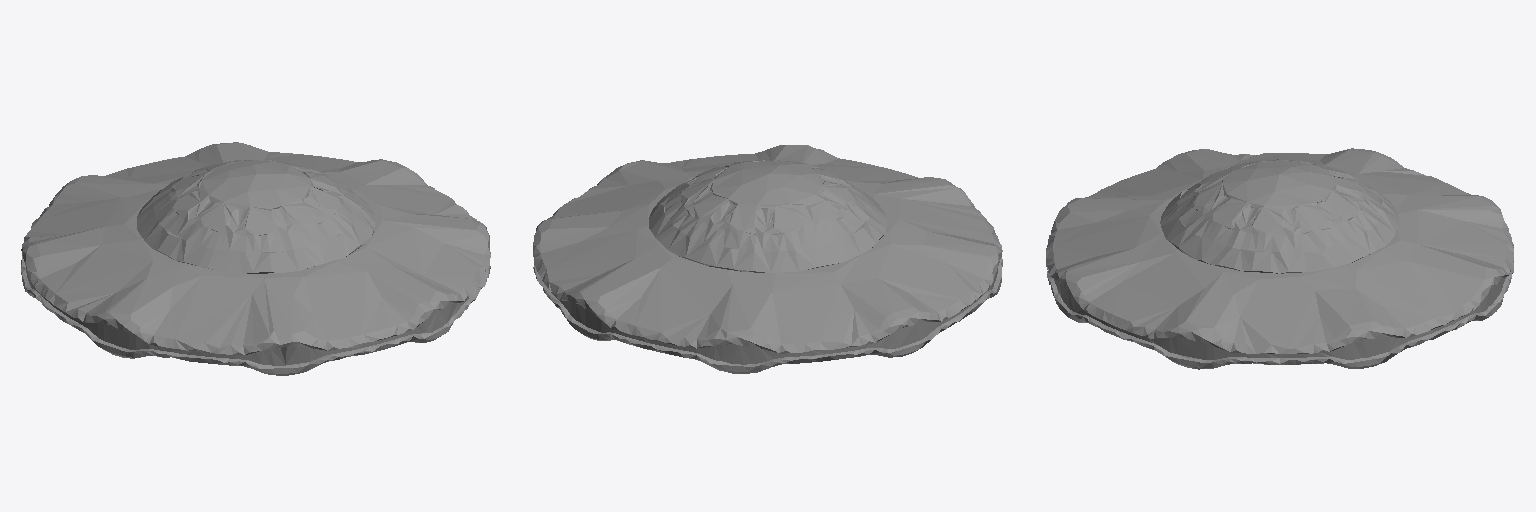
File: frame_026.obj
3 views of the same model, side by side, from view 1: azimuth 30°, elevation 25°; view 2: azimuth 150°, elevation 25°; view 3: azimuth 270°, elevation 25° (orthographic).
Visible parts, largest first — view 1: 13884_UFO_Saucer_v1_l2; view 2: 13884_UFO_Saucer_v1_l2; view 3: 13884_UFO_Saucer_v1_l2.
Part boxes in pixels (x1,y1,x2,y2): 13884_UFO_Saucer_v1_l2: (21,142,490,375); 13884_UFO_Saucer_v1_l2: (533,145,1002,373); 13884_UFO_Saucer_v1_l2: (1046,148,1513,369).
Bounding box in the file's own units: 12.69 × 4.88 × 12.7.